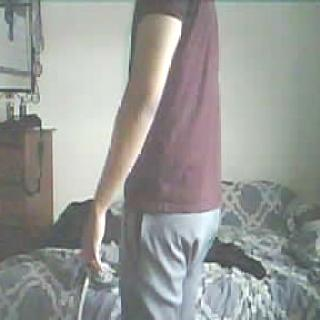Blue Sweatpants: (121, 206, 216, 320)
Maroon T-Shirt: (123, 0, 220, 212)
